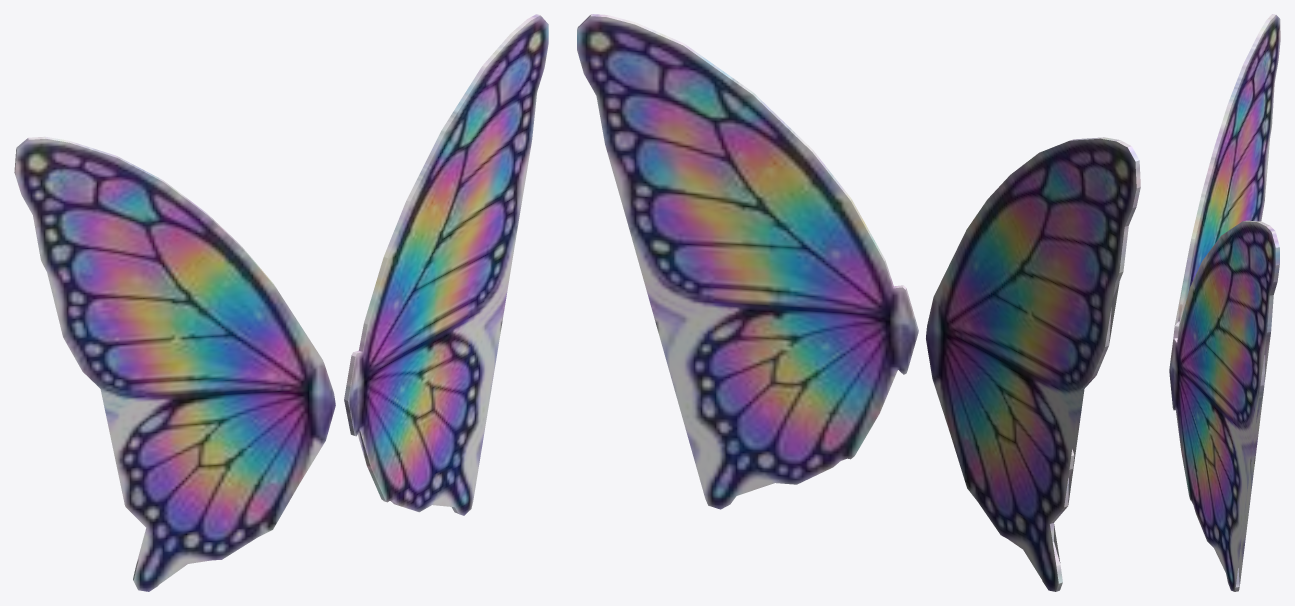
The model's file is back_fly.glb.
The picture shows the model from 3 angles, left to right: view 1: azimuth 30°, elevation 25°; view 2: azimuth 150°, elevation 25°; view 3: azimuth 270°, elevation 25°; orthographic projection. The views are drawn at different scales.
Parts seen in each view (by area): view 1: back_fly_q; view 2: back_fly_q; view 3: back_fly_q.
Boxes of the visible parts, box(x1,y1,x2,y2) form: back_fly_q: box(14, 14, 548, 591); back_fly_q: box(577, 14, 1140, 591); back_fly_q: box(1169, 14, 1280, 591).
Size of the model in its own units: 6.17 by 5.08 by 1.28.
Materials: 1 (1 with a texture image).
